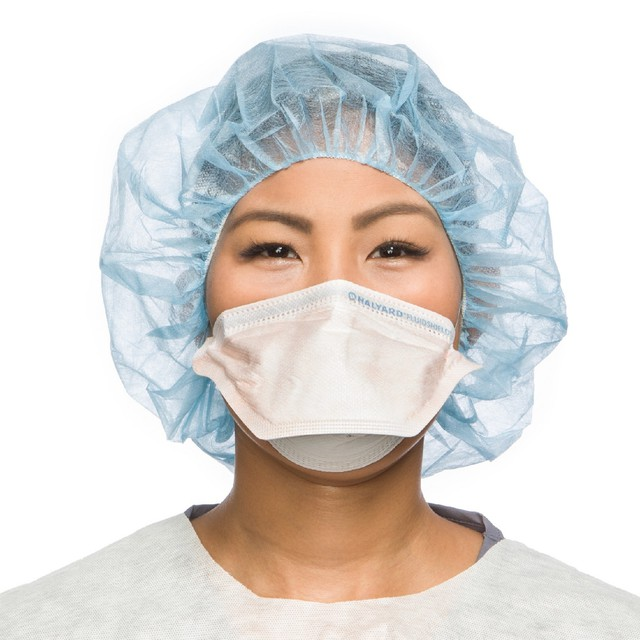mask: (216, 300, 457, 482)
